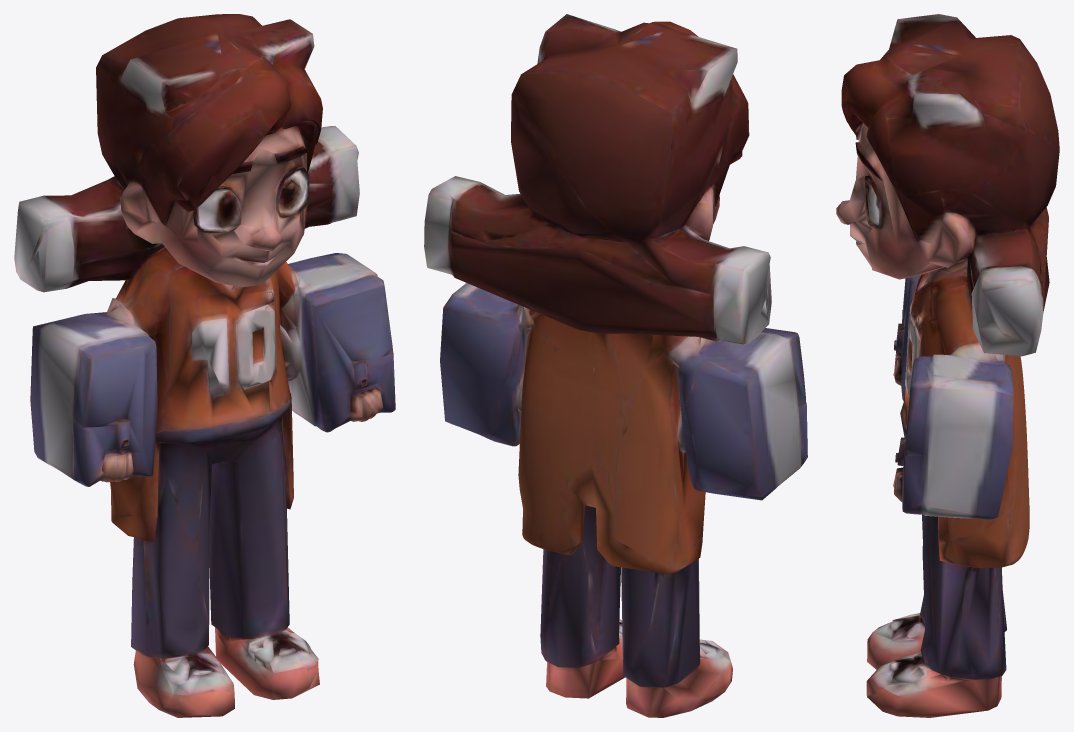
File: full-footballer.glb
3 renders of one model, left to right at view 1: azimuth 30°, elevation 25°; view 2: azimuth 150°, elevation 25°; view 3: azimuth 270°, elevation 25°, orthographic. The views are drawn at different scales.
Parts seen in each view (by area): view 1: material; view 2: material; view 3: material.
Boxes of the visible parts, x1=… form: material: x1=14, y1=14, x2=395, y2=717; material: x1=424, y1=14, x2=807, y2=717; material: x1=836, y1=14, x2=1059, y2=717.
Bounding box in the file's own units: 0.9894 × 1.9 × 0.6104.
1 material, 1 textured.
